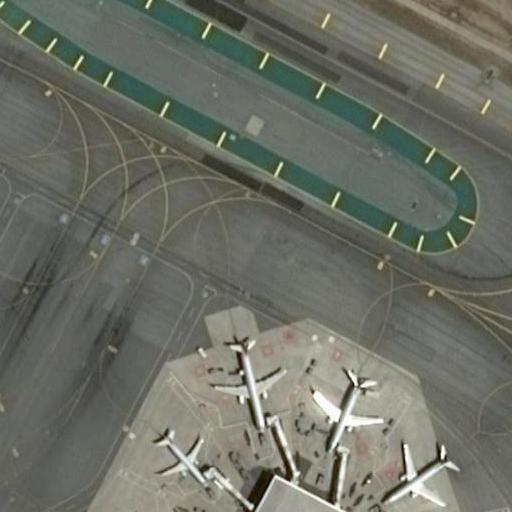Aircraft: (375, 434, 460, 512), (308, 364, 383, 452), (211, 332, 274, 421)
